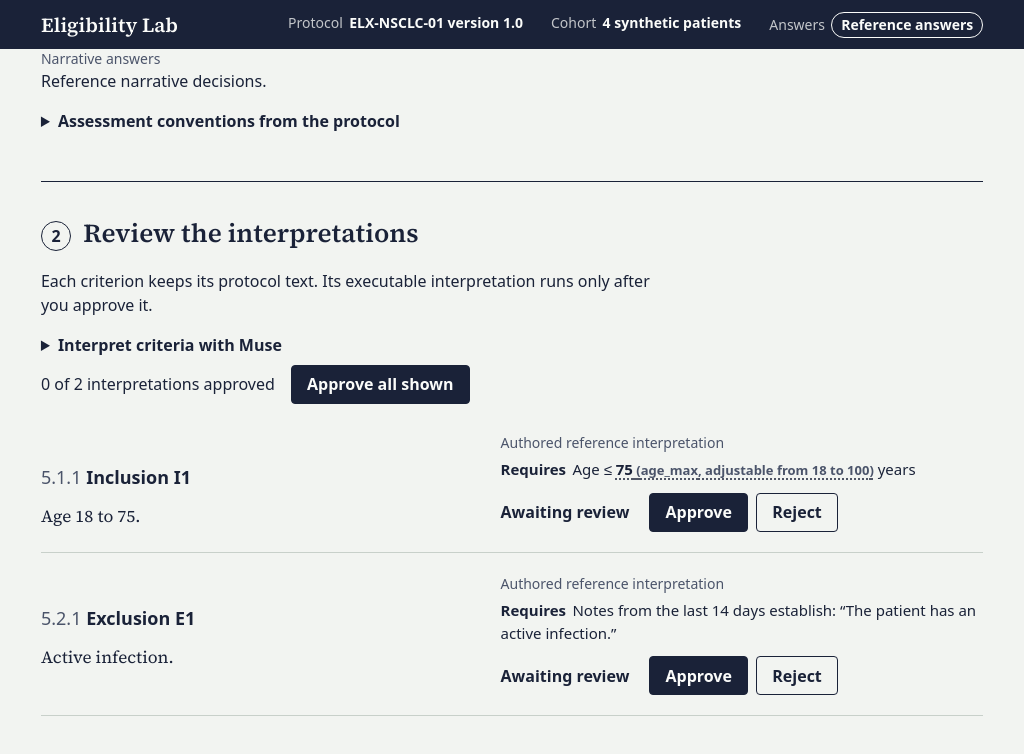
Test: showcase workflow › shows the service's refusal instead of a result
(page scrolled)
Click the button "Approve all shown".
click(380, 384)  # box [291,365,470,404]
(page scrolled)
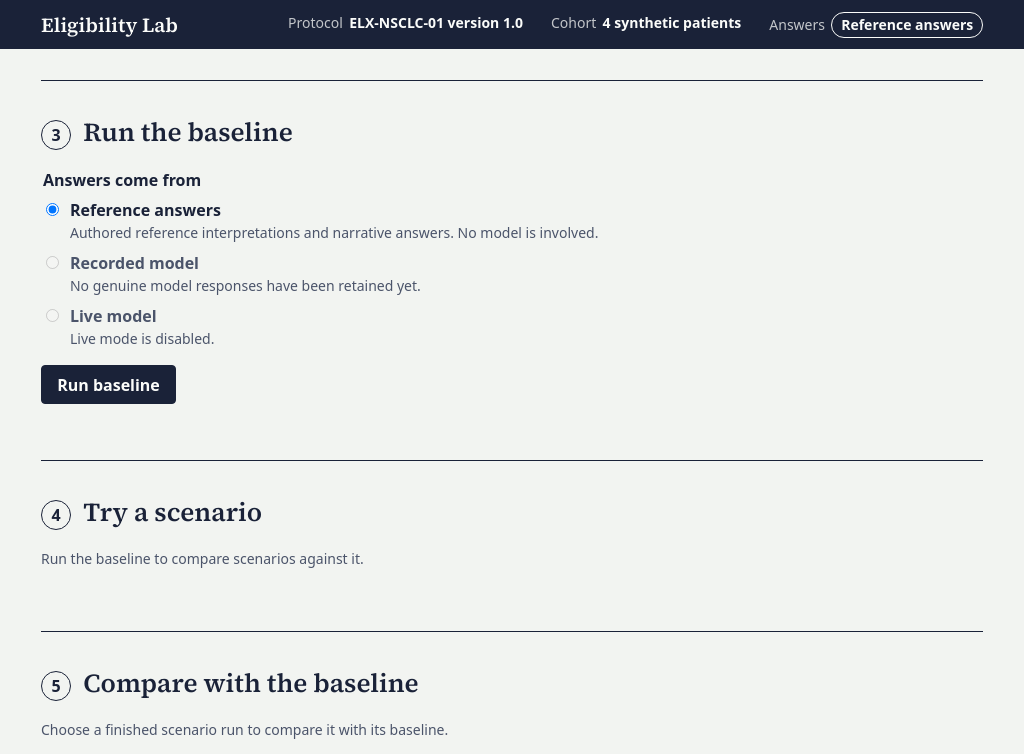
Click the button "Run baseline".
click(109, 385)  # box [41,365,176,404]
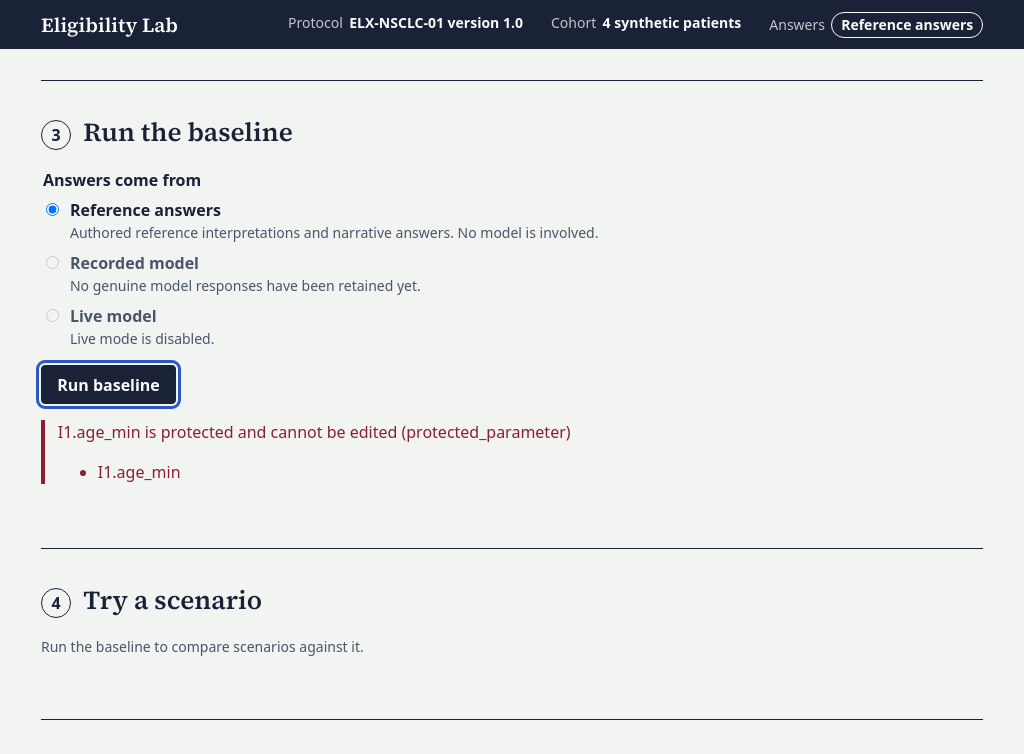
Now the message shows "I1.age_min is protected and cannot be edited (protected_parameter)", box [41,420,700,484]
